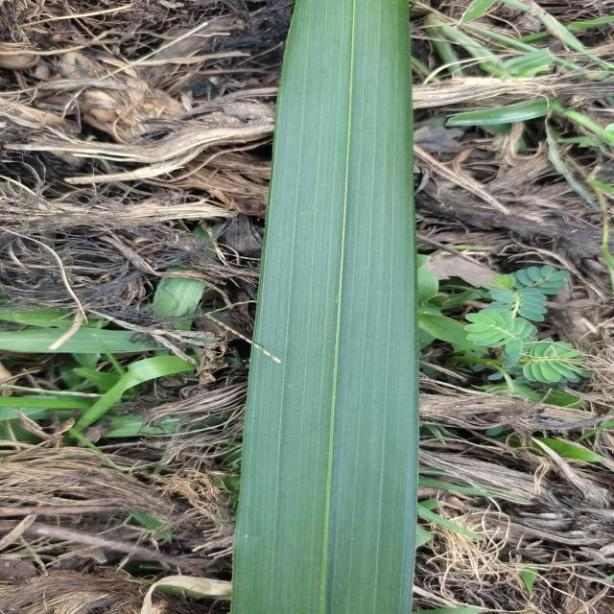Healthy: (232, 0, 416, 614)
